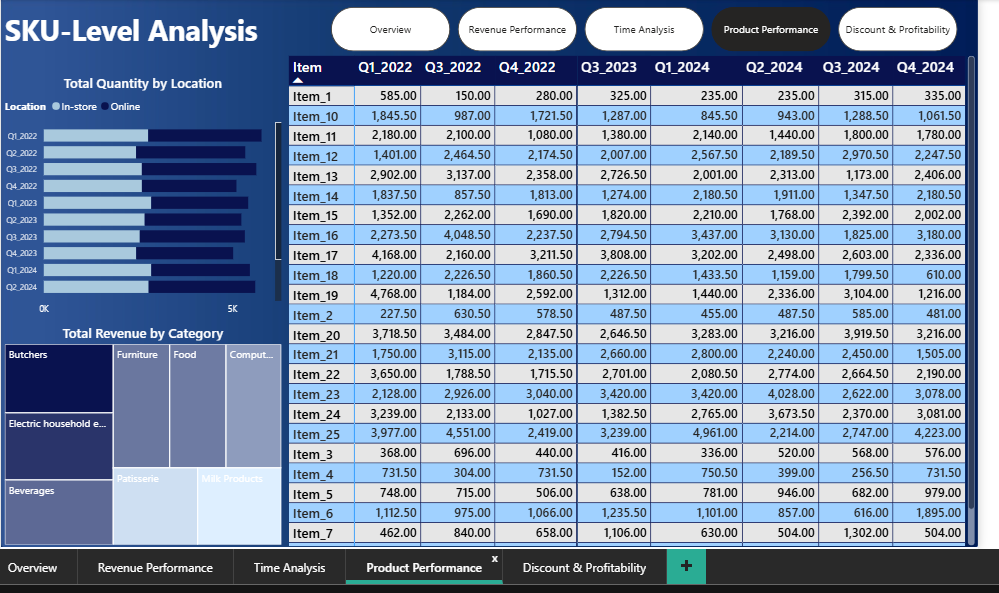

What the dashboard file says about the page in this screenshot:
{"tool":"powerbi","page":{"name":"Product Performance","canvas":[1280,720],"ordinal":3},"visuals":[{"type":"pivotTable","title":"Top 10 Discounted Revenue","fields":{"Rows":["clean_retail_sales.Item"],"Values":["clean_retail_sales.Discount Revenue"],"Columns":["Dim_date.Quarter & Year"]},"box":[371.8,69.1,908.1,650.9],"z":0},{"type":"treemap","fields":{"Group":["clean_retail_sales.Category"],"Values":["clean_retail_sales.Total Revenue"]},"box":[0,424.7,371.8,295.3],"z":1000},{"type":"barChart","title":"Total Quantity by Location","fields":{"Category":["Dim_date.Quarter & Year"],"Series":["clean_retail_sales.Location"],"Y":["clean_retail_sales.Total Quantity"]},"box":[0,97,371.8,327.7],"z":2000},{"type":"pageNavigator","box":[432,10.3,821.4,58.8],"z":2001},{"type":"textbox","box":[0,10.3,432,74.9],"z":2002}]}

Visuals, with their boxes on the page's 1280x720 design canvas (x1, y1, x2, y2). These are canvas units, not pixel positions in the 999x593 screenshot, which may show the page scaled, cropped or inside an application window:
"Top 10 Discounted Revenue" pivotTable: select_region(372, 69, 1280, 720)
treemap - clean_retail_sales.Category x clean_retail_sales.Total Revenue: select_region(0, 425, 372, 720)
"Total Quantity by Location" barChart: select_region(0, 97, 372, 425)
pageNavigator: select_region(432, 10, 1253, 69)
textbox: select_region(0, 10, 432, 85)
